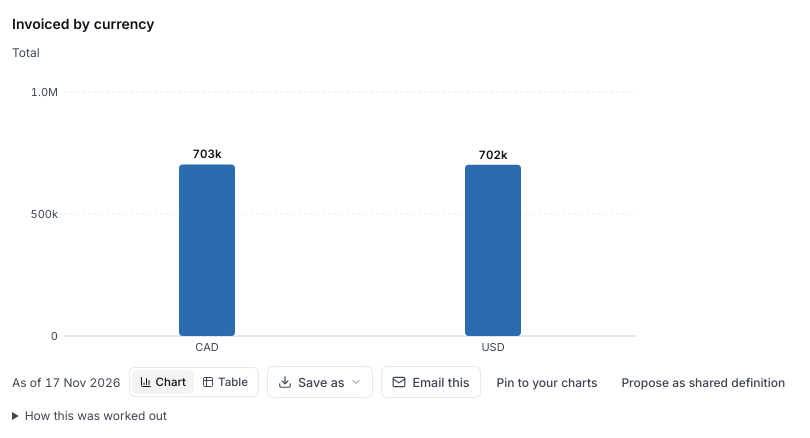
it: the work behind a chart › offers Propose as shared definition for ad-hoc SQL charts and submits it
Click the button with test id "chart-propose" at (703, 382), box [613,368,793,396]
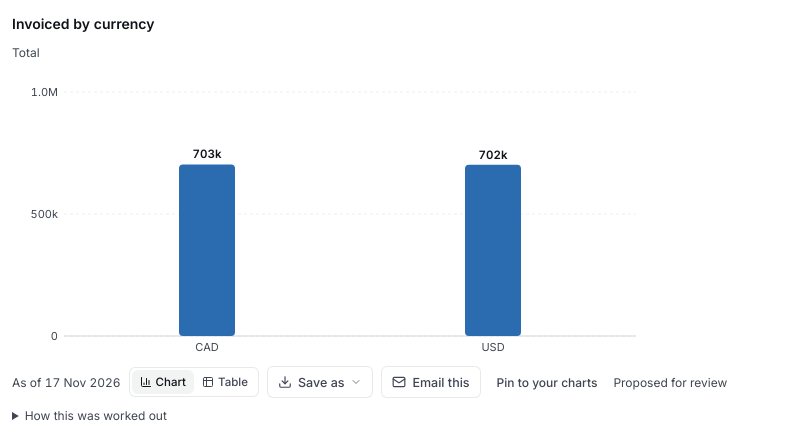
Result: the text with test id "chart-proposed" reads "Proposed for review" at [613,374,727,390]
